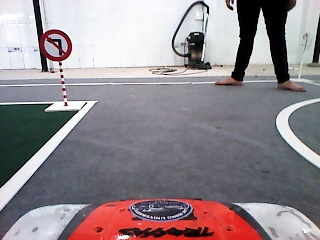ban_left: (39, 29, 73, 61)
